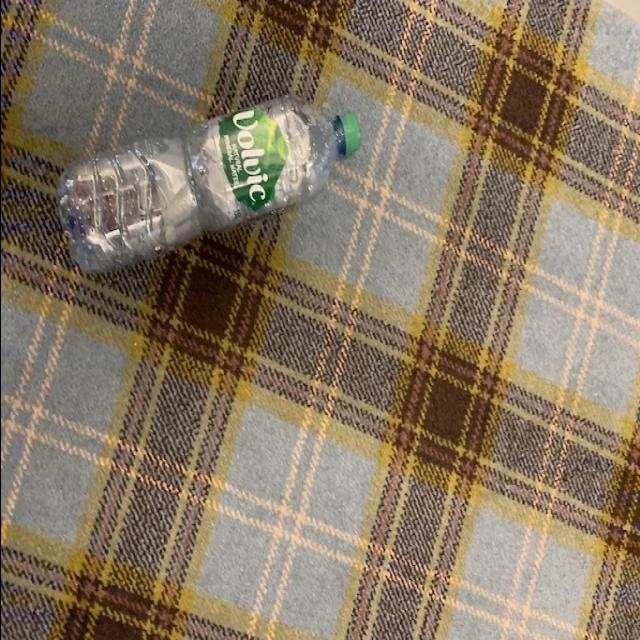PET: (52, 94, 360, 275)
